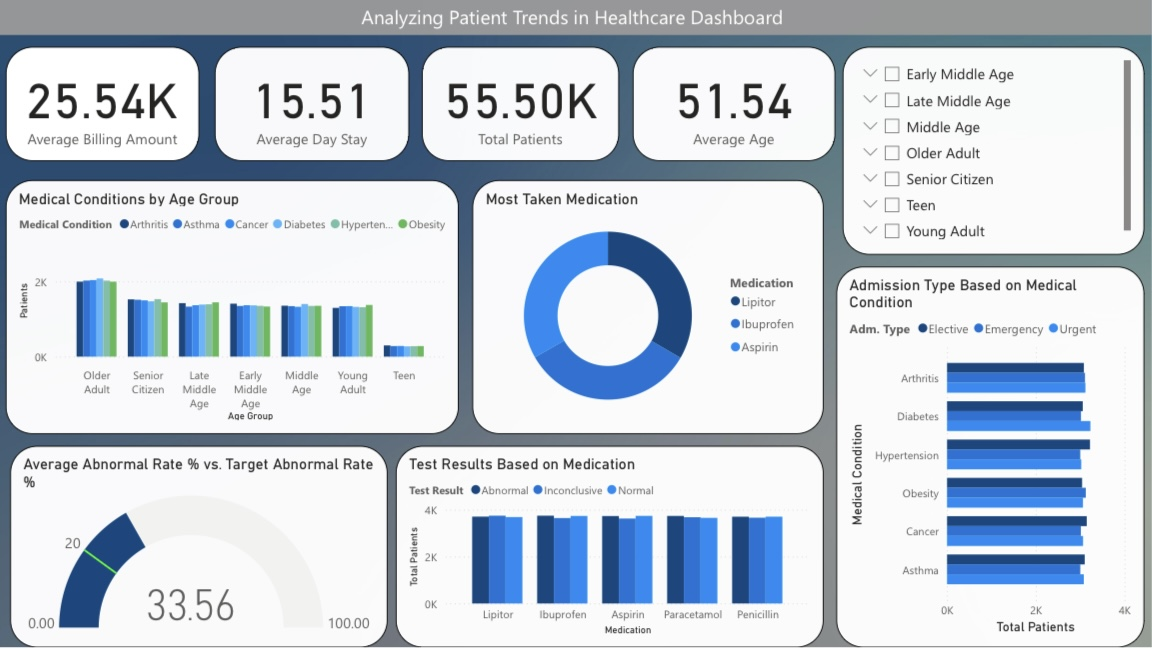

The dashboard page shown, as its layout file describes it:
{"tool":"powerbi","page":{"name":"Page 1","canvas":[1280,720],"ordinal":0},"visuals":[{"type":"card","fields":{"Values":["CountNonNull(healthcare_data_set.name)"]},"box":[469.6,53,219.6,126.9],"z":0},{"type":"card","fields":{"Values":["Avg(healthcare_data_set.billing_amount)"]},"box":[7.6,53,215.9,126.9],"z":1000},{"type":"card","fields":{"Values":["healthcare_data_set.Average Stay Length"]},"box":[240.5,53,215.9,126.9],"z":2000},{"type":"card","fields":{"Values":["healthcare_data_set.Average Age"]},"box":[703.8,52.5,225,127.5],"z":3000},{"type":"textbox","box":[0,0,1280,39.8],"z":4000},{"type":"clusteredColumnChart","title":"Medical Conditions by Age Group","fields":{"Category":["healthcare_data_set.age_group"],"Y":["CountNonNull(healthcare_data_set.name)"],"Series":["healthcare_data_set.medical_condition"]},"box":[7.6,200.7,503.7,282.1],"z":5000},{"type":"slicer","fields":{"Values":["healthcare_data_set.age_group","healthcare_data_set.gender","healthcare_data_set.medical_condition","healthcare_data_set.medication","healthcare_data_set.test_result","healthcare_data_set.admission_type","healthcare_data_set.billing_amount"]},"box":[937.3,53,335.1,231],"z":6000},{"type":"clusteredColumnChart","title":"Test Results Based on Medication","fields":{"Category":["healthcare_data_set.medication"],"Series":["healthcare_data_set.test_result"],"Y":["healthcare_data_set.Total Patients"]},"box":[441.2,496.1,475.3,223.4],"z":7000},{"type":"donutChart","title":"Most Taken Medication","fields":{"Y":["healthcare_data_set.Total Patients"],"Category":["healthcare_data_set.medication"]},"box":[526.4,200.7,390.1,282.1],"z":8000},{"type":"clusteredBarChart","title":"Admission Type Based on Medical Condition","fields":{"Series":["healthcare_data_set.admission_type"],"Y":["healthcare_data_set.Total Patients"],"Category":["healthcare_data_set.medical_condition"]},"box":[929.7,297.3,342.7,422.2],"z":9000},{"type":"gauge","title":"Average Abnormal Rate % vs. Target Abnormal Rate %","fields":{"Y":["healthcare_data_set.Abnormal Rate %"],"TargetValue":["healthcare_data_set.Target Abnormal Rate %"]},"box":[13.3,496.1,418.5,223.4],"z":10000}]}

Visuals, with their boxes in screenshot pixels (x1, y1, x2, y2), scaled from the page's 1280x720 canvas onto the 1152x649 screenshot:
card - CountNonNull(healthcare_data_set.name): box(423, 48, 620, 162)
card - Avg(healthcare_data_set.billing_amount): box(7, 48, 201, 162)
card - healthcare_data_set.Average Stay Length: box(216, 48, 411, 162)
card - healthcare_data_set.Average Age: box(633, 47, 836, 162)
textbox: box(0, 0, 1151, 36)
"Medical Conditions by Age Group" clusteredColumnChart: box(7, 181, 460, 435)
slicer - healthcare_data_set.age_group x healthcare_data_set.gender: box(844, 48, 1145, 256)
"Test Results Based on Medication" clusteredColumnChart: box(397, 447, 825, 648)
"Most Taken Medication" donutChart: box(474, 181, 825, 435)
"Admission Type Based on Medical Condition" clusteredBarChart: box(837, 268, 1145, 648)
"Average Abnormal Rate % vs. Target Abnormal Rate %" gauge: box(12, 447, 389, 648)
